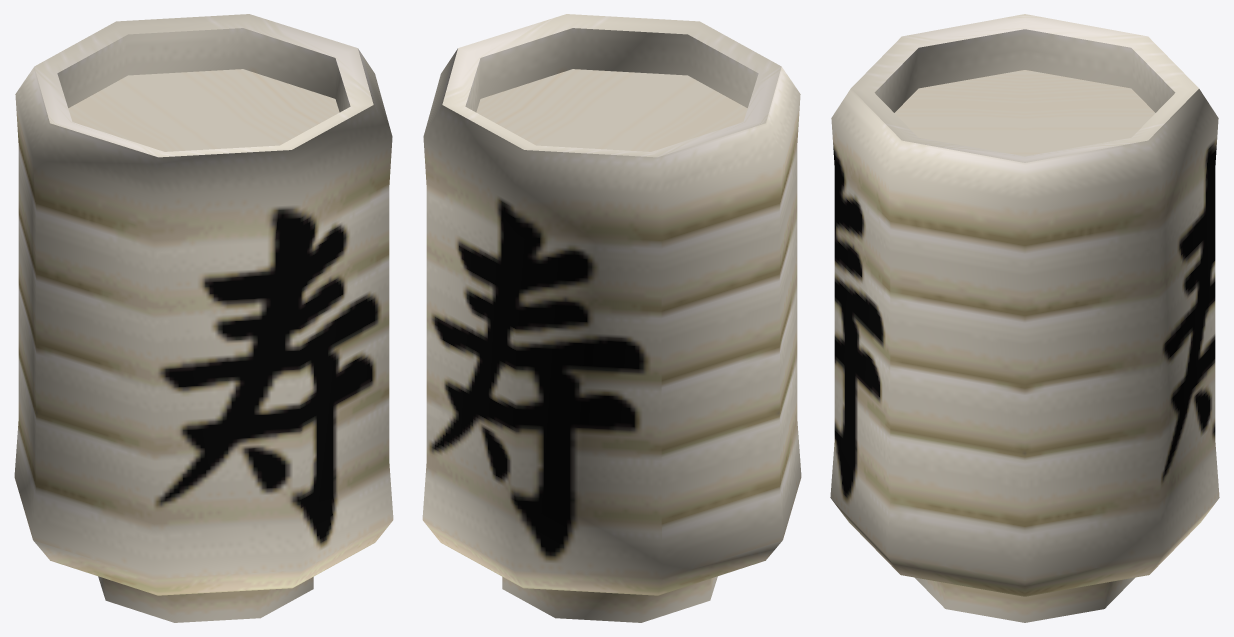
Rendered from icon_def.ico.obj.
The picture shows the model from 3 angles, left to right: view 1: azimuth 30°, elevation 25°; view 2: azimuth 150°, elevation 25°; view 3: azimuth 270°, elevation 25°; orthographic projection.
Size of the model in its own units: 2.5 by 3.43 by 2.49.
1 material, 1 textured.
